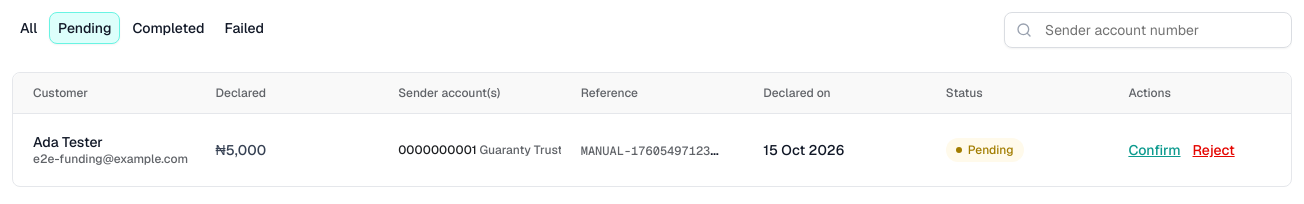
Test: FundingRequestsTab › switching status resets to page 1 and hides settle actions
Click the button "Completed": (168, 28) [124,12,212,44]
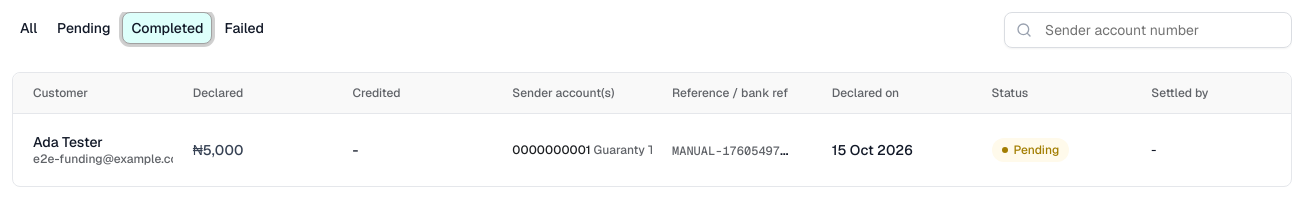
Now the button "Confirm" is gone
